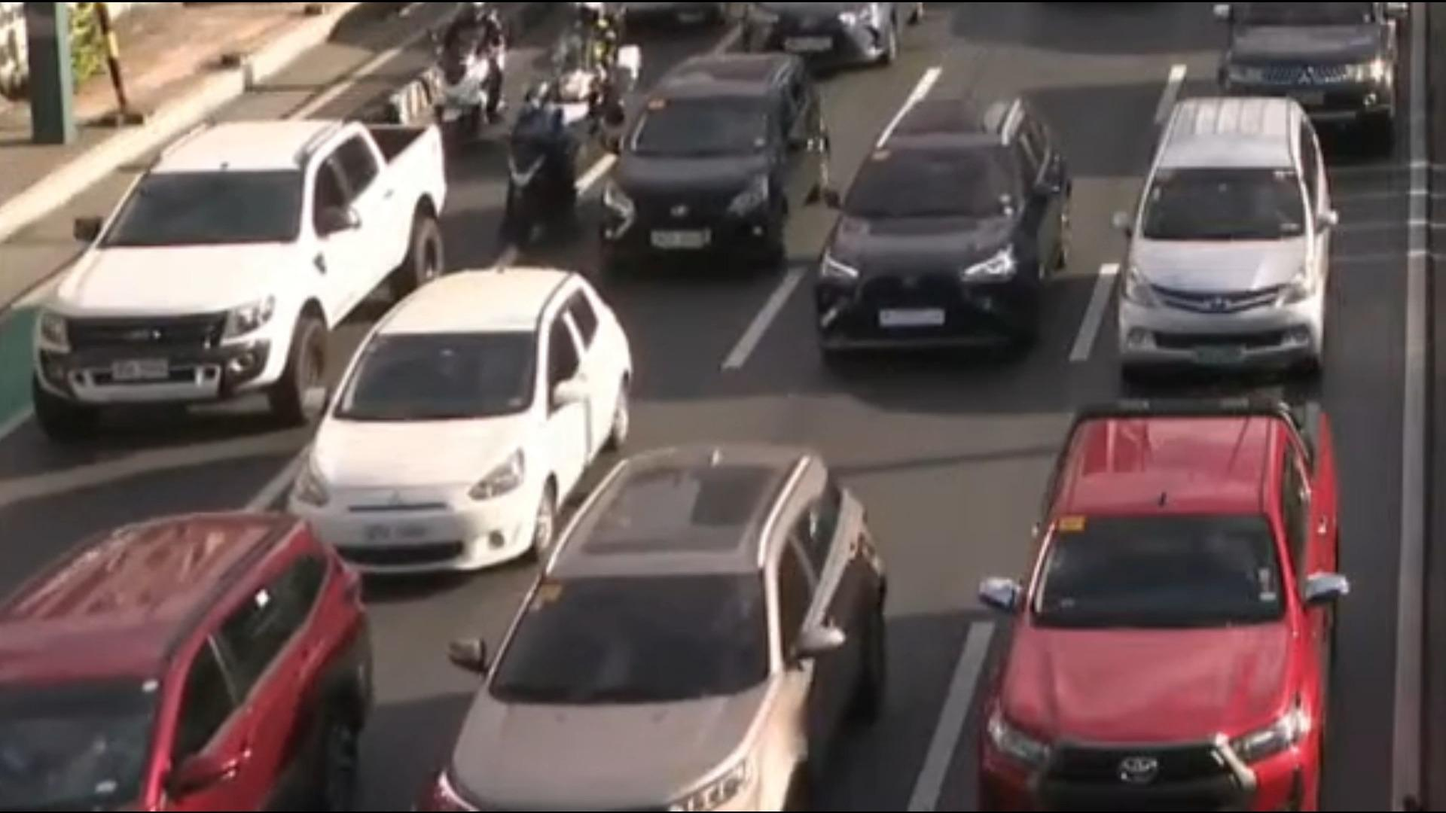Motorcycle: (463, 72, 595, 271), (430, 0, 531, 149), (537, 0, 637, 148)
Pickup: (950, 364, 1399, 812), (0, 104, 462, 450)
SUV: (384, 413, 915, 813), (804, 87, 1100, 383), (1085, 96, 1364, 404), (603, 47, 855, 295)
Sedan: (286, 258, 637, 572)
